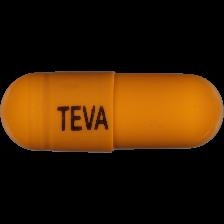0093-0813: (0, 0, 224, 224)
